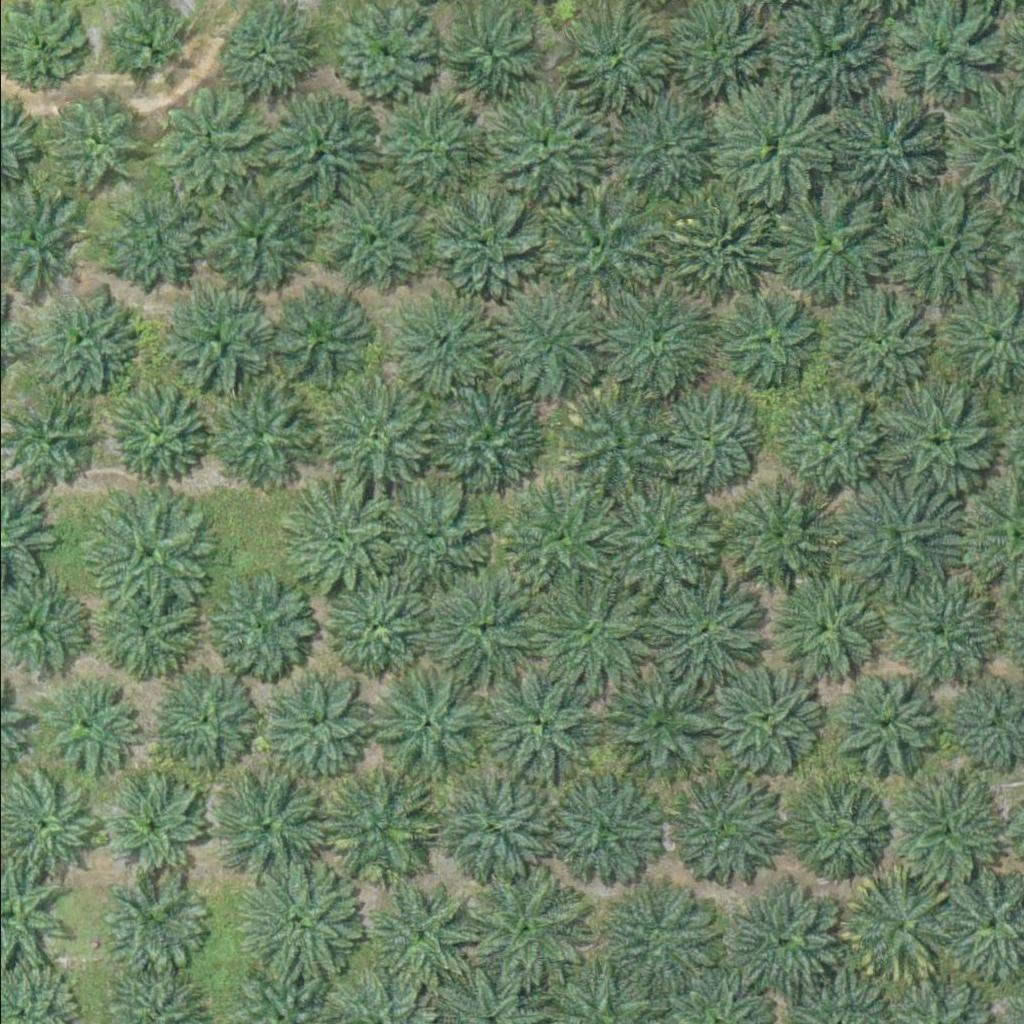Kelapa_Sawit: (826, 470, 952, 595), (863, 381, 989, 506), (810, 88, 936, 213), (874, 181, 1000, 306), (257, 85, 383, 210), (364, 82, 490, 207), (486, 82, 612, 207), (706, 84, 832, 209), (665, 192, 791, 317), (542, 182, 668, 307), (413, 183, 539, 308), (193, 176, 319, 301), (475, 278, 601, 403), (585, 279, 711, 404), (422, 376, 548, 501), (311, 372, 437, 497), (266, 480, 392, 605), (364, 473, 490, 598), (527, 565, 653, 690), (423, 567, 549, 692), (316, 563, 442, 688), (195, 559, 321, 684), (245, 661, 371, 786), (362, 661, 488, 786), (659, 768, 785, 893), (541, 771, 667, 896), (315, 767, 441, 892), (199, 766, 325, 891), (459, 864, 585, 989), (591, 871, 717, 996), (719, 876, 845, 1001), (84, 488, 210, 613), (827, 866, 952, 991), (885, 768, 1010, 893), (642, 566, 767, 691), (480, 667, 605, 792), (592, 667, 717, 792), (429, 767, 554, 892), (233, 862, 358, 987), (815, 295, 929, 408), (594, 85, 708, 198), (313, 181, 426, 294), (770, 387, 883, 500), (606, 480, 719, 593), (651, 382, 764, 495), (553, 389, 666, 502), (23, 286, 136, 399), (92, 183, 205, 296), (878, 580, 991, 692), (768, 190, 881, 302), (263, 288, 376, 400), (727, 480, 840, 592), (197, 377, 310, 489), (765, 576, 878, 688), (147, 85, 260, 197), (793, 780, 894, 880), (833, 675, 934, 775), (561, 12, 662, 112), (332, 5, 433, 105), (207, 1, 308, 101), (713, 290, 814, 390), (512, 488, 613, 588), (710, 670, 811, 770), (366, 887, 467, 987), (101, 867, 202, 967), (98, 777, 199, 877), (151, 665, 252, 765), (35, 677, 136, 777), (102, 579, 203, 679), (53, 87, 154, 187), (381, 300, 481, 400), (108, 382, 208, 482), (164, 294, 264, 394), (782, 3, 882, 102), (440, 8, 528, 96)
